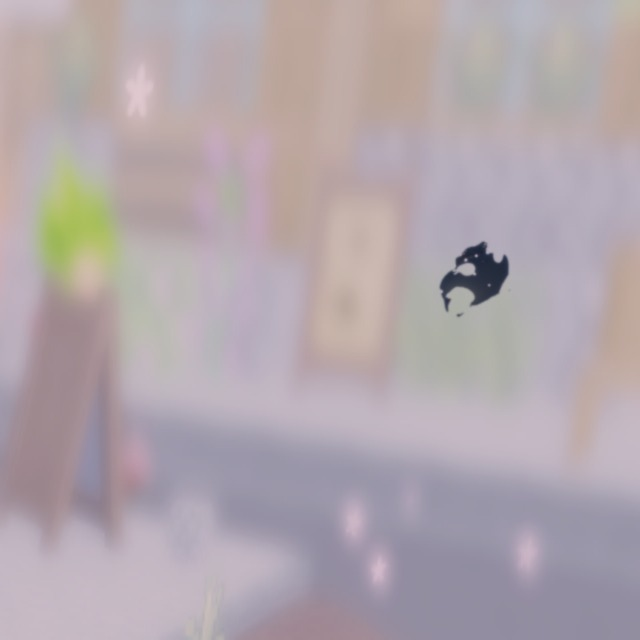urso_preto: (410, 219, 538, 339)
